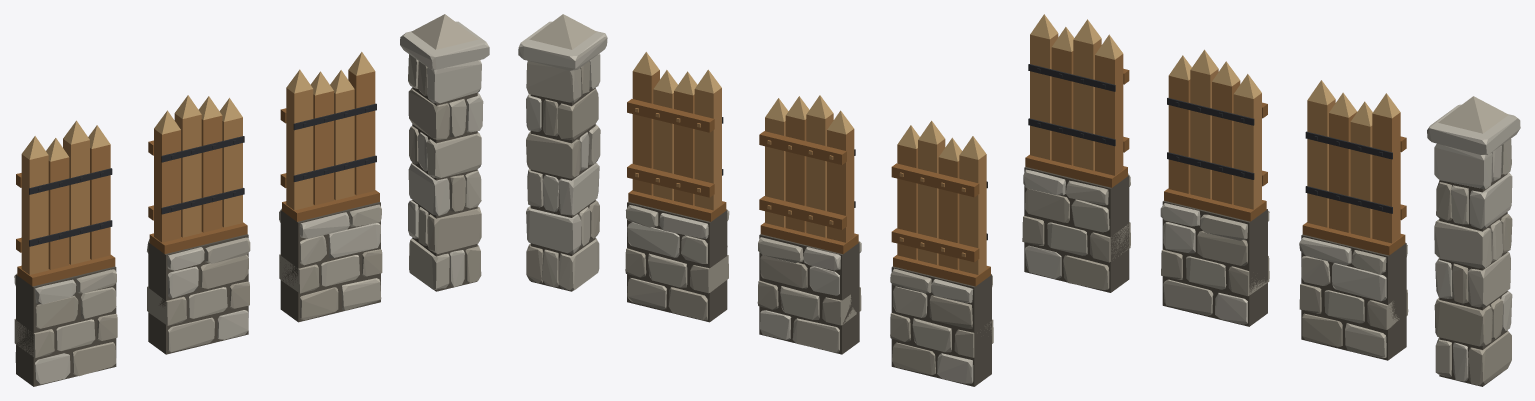
File: wall-l2-kit.fbx
3 renders of one model, left to right at view 1: azimuth 30°, elevation 25°; view 2: azimuth 150°, elevation 25°; view 3: azimuth 330°, elevation 25°, orthographic. The views are drawn at different scales.
Parts seen in each view (by area): view 1: Wall2_Run_1m_C, Wall2_Run_1m_A, Wall2_Run_1m_B, Wall2_Post; view 2: Wall2_Run_1m_C, Wall2_Run_1m_A, Wall2_Run_1m_B, Wall2_Post; view 3: Wall2_Run_1m_A, Wall2_Run_1m_C, Wall2_Run_1m_B, Wall2_Post.
Boxes of the visible parts, bbox=[...] form: Wall2_Run_1m_C: bbox=[279, 52, 382, 322]; Wall2_Run_1m_A: bbox=[14, 120, 117, 386]; Wall2_Run_1m_B: bbox=[147, 95, 250, 354]; Wall2_Post: bbox=[400, 14, 489, 291]; Wall2_Run_1m_C: bbox=[625, 52, 729, 322]; Wall2_Run_1m_A: bbox=[890, 120, 993, 386]; Wall2_Run_1m_B: bbox=[757, 95, 861, 354]; Wall2_Post: bbox=[518, 14, 607, 291]; Wall2_Run_1m_A: bbox=[1022, 14, 1130, 292]; Wall2_Run_1m_C: bbox=[1299, 80, 1408, 360]; Wall2_Run_1m_B: bbox=[1160, 49, 1269, 326]; Wall2_Post: bbox=[1427, 96, 1520, 386].
Bounding box in the file's own units: 543 × 305 × 69.57.
